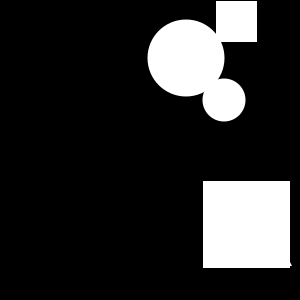circle: (203, 181, 290, 268), (216, 1, 257, 42)
rectangle: (148, 20, 224, 96), (202, 78, 246, 121)
triangle: (262, 236, 292, 266)
